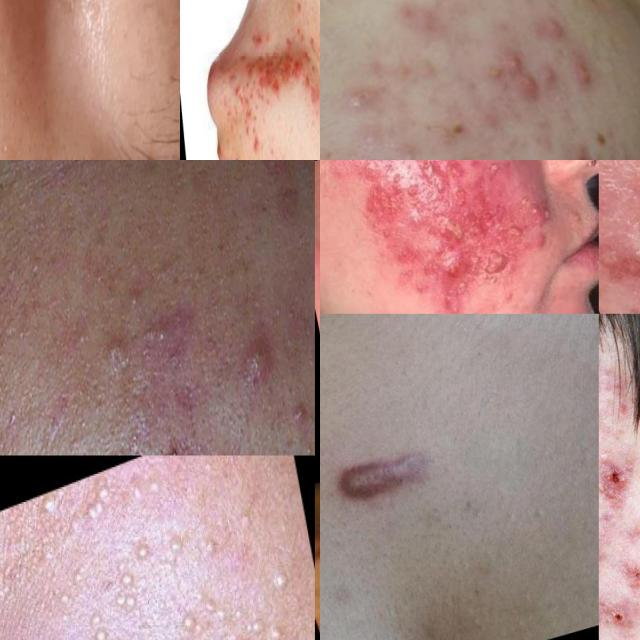acne_scars: (258, 37, 294, 105)
cystic: (428, 243, 474, 285), (429, 203, 470, 250), (472, 239, 515, 283), (402, 202, 433, 239), (422, 160, 449, 195)
keloid: (320, 416, 449, 535)
milium: (158, 513, 228, 581), (57, 474, 120, 540), (42, 555, 96, 632), (124, 463, 175, 524), (171, 589, 228, 640), (235, 600, 289, 640), (106, 564, 142, 619), (82, 602, 112, 640), (265, 560, 293, 597), (133, 536, 153, 568)
papule: (557, 129, 608, 160), (230, 80, 254, 134), (560, 48, 592, 88), (534, 5, 570, 37), (528, 226, 560, 256), (290, 43, 309, 87), (502, 46, 526, 72), (247, 124, 263, 160), (519, 68, 535, 98)
pustule: (613, 160, 640, 214), (286, 382, 308, 434), (518, 196, 545, 223), (477, 160, 506, 180), (268, 160, 293, 177)
sebo-crystan-conglo: (232, 310, 279, 396), (598, 209, 640, 302), (435, 278, 483, 314), (134, 342, 142, 348), (127, 313, 130, 318)
syringoma: (43, 0, 105, 62)
